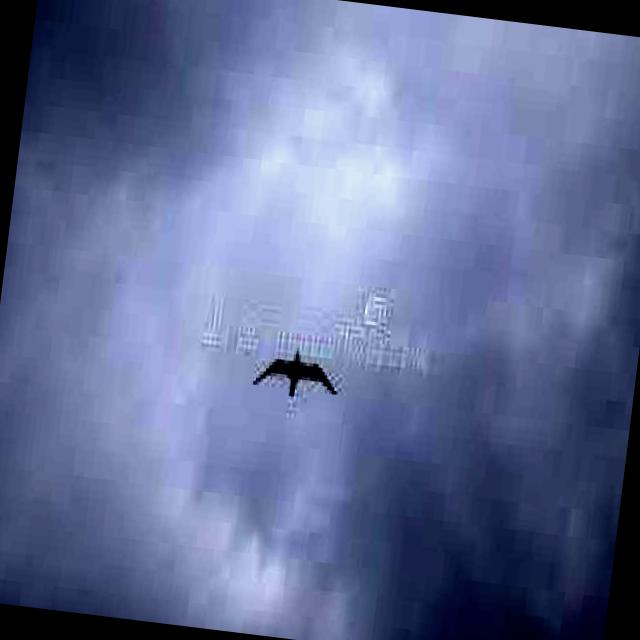bird: (240, 340, 346, 413)
